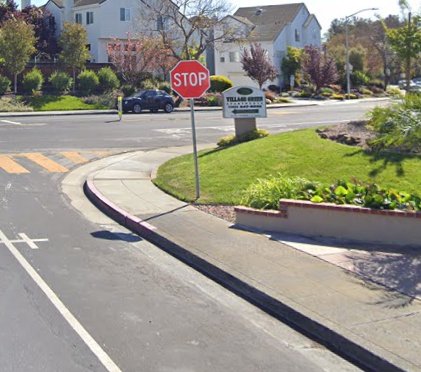stop_sign: (171, 60, 210, 98)
